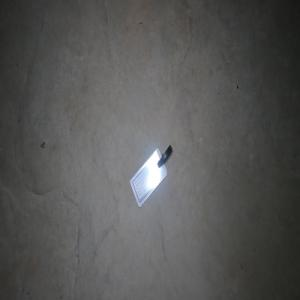LuggageTag: (129, 143, 172, 208)
